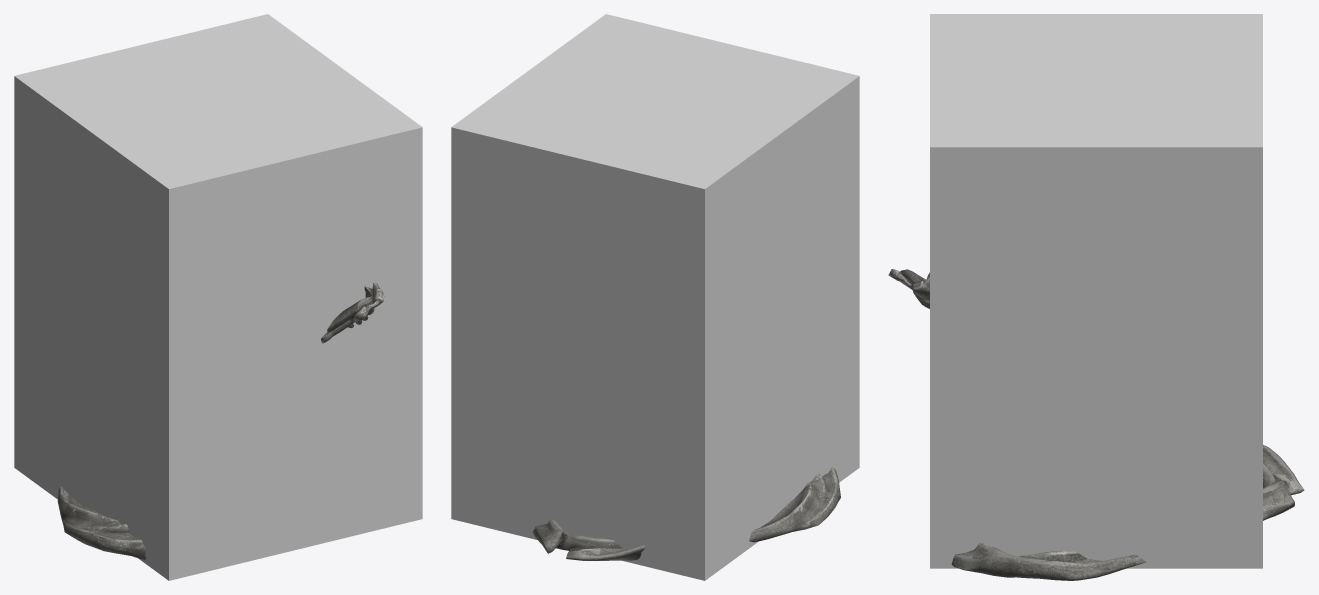
File: gothic_statue_sanctuary.glb
3 renders of one model, left to right at view 1: azimuth 30°, elevation 25°; view 2: azimuth 150°, elevation 25°; view 3: azimuth 270°, elevation 25°, orthographic. The views are drawn at different scales.
Parts seen in each view (by area): view 1: col_gothic_statue_sanctuary, gothic_statue_sanctuary; view 2: col_gothic_statue_sanctuary, gothic_statue_sanctuary; view 3: col_gothic_statue_sanctuary, gothic_statue_sanctuary.
Part boxes in pixels (x1,y1,x2,y2): col_gothic_statue_sanctuary: (14,14,422,580); gothic_statue_sanctuary: (57,282,384,559); col_gothic_statue_sanctuary: (451,14,859,580); gothic_statue_sanctuary: (532,467,840,560); col_gothic_statue_sanctuary: (930,14,1262,568); gothic_statue_sanctuary: (888,269,1304,580).
Bounding box in the file's own units: 1.47 × 1.74 × 1.56.
Materials: 1 (1 with a texture image).
